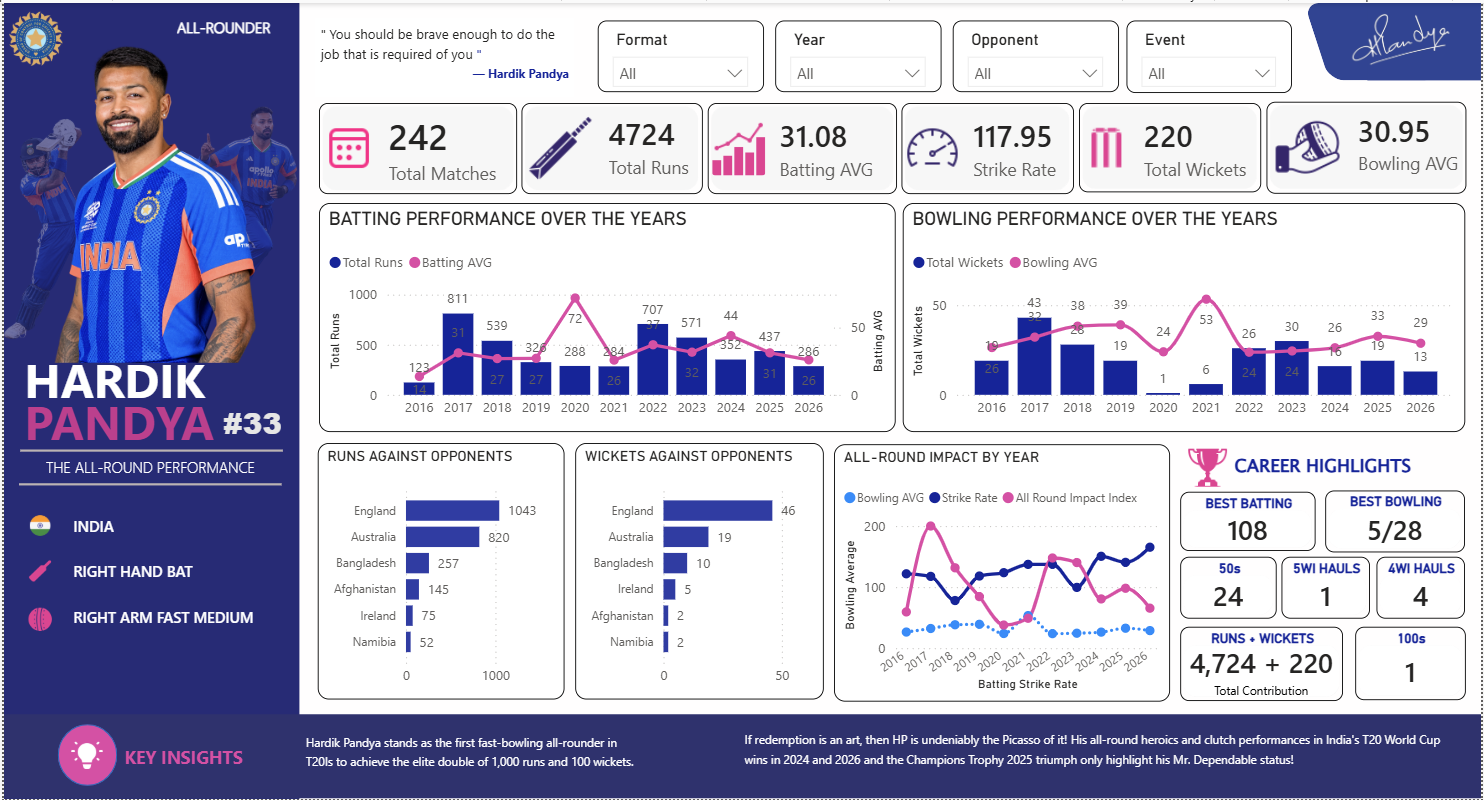

The page's visual inventory and layout, read from the dashboard file:
{"tool":"powerbi","page":{"name":"Page 1","canvas":[1336,720],"ordinal":0},"visuals":[{"type":"shape","box":[1176.2,0,145,70],"z":0,"group":"g1"},{"type":"cardVisual","fields":{"Data":["_Measures.Total Matches"]},"box":[285.2,90.2,179.1,82.6],"z":0},{"type":"shape","box":[1233.7,0,102.5,70],"z":1000,"group":"g1"},{"type":"cardVisual","fields":{"Data":["_Measures.Batting Average"]},"box":[637,90.2,171.2,82.4],"z":1000},{"type":"cardVisual","fields":{"Data":["_Measures.Total Runs"]},"box":[468.1,90.2,164,82.6],"z":2000},{"type":"cardVisual","fields":{"Data":["_Measures.Batting Strike Rate"]},"box":[812.2,90.8,155.9,82.4],"z":3000},{"type":"cardVisual","fields":{"Data":["_Measures.Total Wickets"]},"box":[972.2,90.8,164.7,81.2],"z":4000},{"type":"cardVisual","fields":{"Data":["_Measures.Bowling Average"]},"box":[1141.6,89.6,181.2,82.9],"z":5000},{"type":"slicer","fields":{"Values":["Matches.Format"]},"box":[536.6,16.2,150,65],"z":6000},{"type":"slicer","fields":{"Values":["Matches.Year"]},"box":[697.8,16.2,150,65],"z":7000},{"type":"slicer","fields":{"Values":["Matches.Opponent"]},"box":[858.1,15.8,150,65],"z":8000},{"type":"shape","box":[0,0,267.5,720],"z":9000},{"type":"group","id":"g1","title":"Group 1","box":[1176.2,0,160,70],"z":10000},{"type":"shape","box":[0,643.3,1336.2,76.2],"z":11000},{"type":"lineClusteredColumnComboChart","title":"BATTING PERFORMANCE OVER THE YEARS","fields":{"Category":["Matches.Year"],"Y":["_Measures.Total Runs"],"Y2":["_Measures.Batting AVG"]},"box":[285,181.2,521.2,207.5],"z":12000},{"type":"lineClusteredColumnComboChart","title":"BOWLING PERFORMANCE OVER THE YEARS","fields":{"Y":["_Measures.Total Wickets"],"Y2":["_Measures.Bowling AVG"],"Category":["Matches.Year"]},"box":[812.5,181.2,508.8,207.5],"z":13000},{"type":"textbox","box":[282.5,397.5,260,45],"z":14000},{"type":"group","id":"g2","title":"Group 2","box":[13.6,306.4,225,107.1],"z":15000},{"type":"textbox","box":[13.6,306.4,225,70],"z":15000,"group":"g2"},{"type":"image","box":[0,70.2,102.8,270.7],"z":15500},{"type":"image","box":[154.2,70.2,130.7,239.6],"z":15750},{"type":"image","box":[0,35.1,268.2,290.8],"z":16000},{"type":"textbox","box":[13.6,343.9,225,70],"z":16000,"group":"g2"},{"type":"shape","box":[15,378.8,237.5,52.2],"z":16000,"group":"g3"},{"type":"textbox","box":[151.6,7.5,104.4,32.2],"z":17000},{"type":"textbox","box":[33.1,405.5,201.4,30.3],"z":17000,"group":"g3"},{"type":"shape","box":[13.8,409.1,237.5,52.2],"z":18000,"group":"g3"},{"type":"image","box":[21.4,459.3,22.5,27.5],"z":18000},{"type":"image","box":[21.4,500,22.1,27.9],"z":19000},{"type":"image","box":[21.4,544.3,22.5,27.5],"z":20000},{"type":"group","id":"g3","title":"Group 3","box":[13.8,378.8,238.8,82.5],"z":21000},{"type":"clusteredBarChart","title":"RUNS AGAINST OPPONENTS ","fields":{"Category":["Matches.Opponent"],"Y":["_Measures.Total Runs"]},"box":[283.3,398.6,223.3,232.2],"z":22000},{"type":"clusteredBarChart","title":"WICKETS AGAINST OPPONENTS","fields":{"Category":["Matches.Opponent"],"Y":["_Measures.Total Wickets"]},"box":[516.7,397.4,224.4,232.2],"z":23000},{"type":"lineChart","title":"ALL-ROUND IMPACT BY YEAR","fields":{"Category":["Matches.Year"],"Y":["_Measures.Bowling AVG","_Measures.Strike Rate","_Measures.All Round Impact Index"]},"box":[751.2,398.8,303.8,232.5],"z":24000},{"type":"slicer","fields":{"Values":["Matches.Event"]},"box":[1015.8,15.8,149.3,65.5],"z":25000},{"type":"cardVisual","title":"BEST BOWLING","fields":{"Data":["_Measures.Best Bowling"]},"box":[1195,441.2,126.2,56.2],"z":26000},{"type":"cardVisual","title":"BEST BATTING","fields":{"Data":["_Measures.Best Batting"]},"box":[1063.8,442.5,122.5,53.8],"z":27000},{"type":"cardVisual","title":"RUNS + WICKETS","fields":{"Data":["_Measures.Runs + Wickets"]},"box":[1063.8,563.8,147.5,67.5],"z":28000},{"type":"cardVisual","title":"50s","fields":{"Data":["_Measures.Fifties"]},"box":[1063.8,501.2,87.5,56.2],"z":29000},{"type":"cardVisual","title":"100s","fields":{"Data":["_Measures.Centuries"]},"box":[1222.5,563.8,100,66.2],"z":30000},{"type":"cardVisual","title":"5WI HAULS","fields":{"Data":["_Measures.Five Wicket Hauls"]},"box":[1155,501.2,80,56.2],"z":31000},{"type":"cardVisual","title":"4WI HAULS","fields":{"Data":["_Measures.Four Wicket Hauls"]},"box":[1241.2,501.2,80,56.2],"z":32000},{"type":"image","box":[1063.8,398.8,50,38.8],"z":33000},{"type":"textbox","box":[1107.8,401.1,197.8,34.4],"z":34000},{"type":"textbox","box":[57.1,459.3,104.4,32.2],"z":35000},{"type":"textbox","box":[57.1,500,132.9,32.1],"z":36000},{"type":"textbox","box":[57.7,541.6,193.3,31.7],"z":37000},{"type":"group","id":"g4","title":"Group 4","box":[48.6,652.9,54.3,55.7],"z":38000},{"type":"shape","box":[48.6,652.9,53.9,55.7],"z":38500,"group":"g4"},{"type":"textbox","box":[104.3,665.7,125,32.1],"z":39000},{"type":"image","box":[54.6,668,41.7,28.3],"z":39000,"group":"g4"},{"type":"textbox","box":[268,653.5,314.3,56.5],"z":40000},{"type":"textbox","box":[664.8,651.3,653.5,56.5],"z":41000},{"type":"image","box":[0,7.9,57.7,48.6],"z":42000},{"type":"textbox","title":"33","box":[193,354.7,75.2,53.9],"z":43000},{"type":"image","box":[1205.7,8.8,117.8,47.6],"z":44000},{"type":"textbox","box":[282,13.8,234.4,71.4],"z":45000}]}

Visuals, with their boxes in screenshot pixels (x1, y1, x2, y2), scaled from the page's 1336x720 canvas onto the 1484x800 screenshot:
shape: {"left": 1306, "top": 0, "right": 1468, "bottom": 78}
cardVisual - _Measures.Total Matches: {"left": 317, "top": 100, "right": 516, "bottom": 192}
shape: {"left": 1370, "top": 0, "right": 1483, "bottom": 78}
cardVisual - _Measures.Batting Average: {"left": 708, "top": 100, "right": 898, "bottom": 192}
cardVisual - _Measures.Total Runs: {"left": 520, "top": 100, "right": 702, "bottom": 192}
cardVisual - _Measures.Batting Strike Rate: {"left": 902, "top": 101, "right": 1075, "bottom": 192}
cardVisual - _Measures.Total Wickets: {"left": 1080, "top": 101, "right": 1263, "bottom": 191}
cardVisual - _Measures.Bowling Average: {"left": 1268, "top": 100, "right": 1469, "bottom": 192}
slicer - Matches.Format: {"left": 596, "top": 18, "right": 763, "bottom": 90}
slicer - Matches.Year: {"left": 775, "top": 18, "right": 942, "bottom": 90}
slicer - Matches.Opponent: {"left": 953, "top": 18, "right": 1120, "bottom": 90}
shape: {"left": 0, "top": 0, "right": 297, "bottom": 799}
"Group 1" group: {"left": 1306, "top": 0, "right": 1483, "bottom": 78}
shape: {"left": 0, "top": 715, "right": 1483, "bottom": 799}
"BATTING PERFORMANCE OVER THE YEARS" lineClusteredColumnComboChart: {"left": 317, "top": 201, "right": 896, "bottom": 432}
"BOWLING PERFORMANCE OVER THE YEARS" lineClusteredColumnComboChart: {"left": 903, "top": 201, "right": 1468, "bottom": 432}
textbox: {"left": 314, "top": 442, "right": 603, "bottom": 492}
"Group 2" group: {"left": 15, "top": 340, "right": 265, "bottom": 459}
textbox: {"left": 15, "top": 340, "right": 265, "bottom": 418}
image: {"left": 0, "top": 78, "right": 114, "bottom": 379}
image: {"left": 171, "top": 78, "right": 316, "bottom": 344}
image: {"left": 0, "top": 39, "right": 298, "bottom": 362}
textbox: {"left": 15, "top": 382, "right": 265, "bottom": 460}
shape: {"left": 17, "top": 421, "right": 280, "bottom": 479}
textbox: {"left": 168, "top": 8, "right": 284, "bottom": 44}
textbox: {"left": 37, "top": 451, "right": 260, "bottom": 484}
shape: {"left": 15, "top": 455, "right": 279, "bottom": 513}
image: {"left": 24, "top": 510, "right": 49, "bottom": 541}
image: {"left": 24, "top": 556, "right": 48, "bottom": 587}
image: {"left": 24, "top": 605, "right": 49, "bottom": 635}
"Group 3" group: {"left": 15, "top": 421, "right": 281, "bottom": 513}
"RUNS AGAINST OPPONENTS " clusteredBarChart: {"left": 315, "top": 443, "right": 563, "bottom": 701}
"WICKETS AGAINST OPPONENTS" clusteredBarChart: {"left": 574, "top": 442, "right": 823, "bottom": 700}
"ALL-ROUND IMPACT BY YEAR" lineChart: {"left": 834, "top": 443, "right": 1172, "bottom": 701}
slicer - Matches.Event: {"left": 1128, "top": 18, "right": 1294, "bottom": 90}
"BEST BOWLING" cardVisual: {"left": 1327, "top": 490, "right": 1468, "bottom": 553}
"BEST BATTING" cardVisual: {"left": 1182, "top": 492, "right": 1318, "bottom": 551}
"RUNS + WICKETS" cardVisual: {"left": 1182, "top": 626, "right": 1345, "bottom": 701}
"50s" cardVisual: {"left": 1182, "top": 557, "right": 1279, "bottom": 619}
"100s" cardVisual: {"left": 1358, "top": 626, "right": 1469, "bottom": 700}
"5WI HAULS" cardVisual: {"left": 1283, "top": 557, "right": 1372, "bottom": 619}
"4WI HAULS" cardVisual: {"left": 1379, "top": 557, "right": 1468, "bottom": 619}
image: {"left": 1182, "top": 443, "right": 1237, "bottom": 486}
textbox: {"left": 1231, "top": 446, "right": 1450, "bottom": 484}
textbox: {"left": 63, "top": 510, "right": 179, "bottom": 546}
textbox: {"left": 63, "top": 556, "right": 211, "bottom": 591}
textbox: {"left": 64, "top": 602, "right": 279, "bottom": 637}
"Group 4" group: {"left": 54, "top": 725, "right": 114, "bottom": 787}
shape: {"left": 54, "top": 725, "right": 114, "bottom": 787}
textbox: {"left": 116, "top": 740, "right": 255, "bottom": 775}
image: {"left": 61, "top": 742, "right": 107, "bottom": 774}
textbox: {"left": 298, "top": 726, "right": 647, "bottom": 789}
textbox: {"left": 738, "top": 724, "right": 1464, "bottom": 786}
image: {"left": 0, "top": 9, "right": 64, "bottom": 63}
"33" textbox: {"left": 214, "top": 394, "right": 298, "bottom": 454}
image: {"left": 1339, "top": 10, "right": 1470, "bottom": 63}
textbox: {"left": 313, "top": 15, "right": 574, "bottom": 95}
